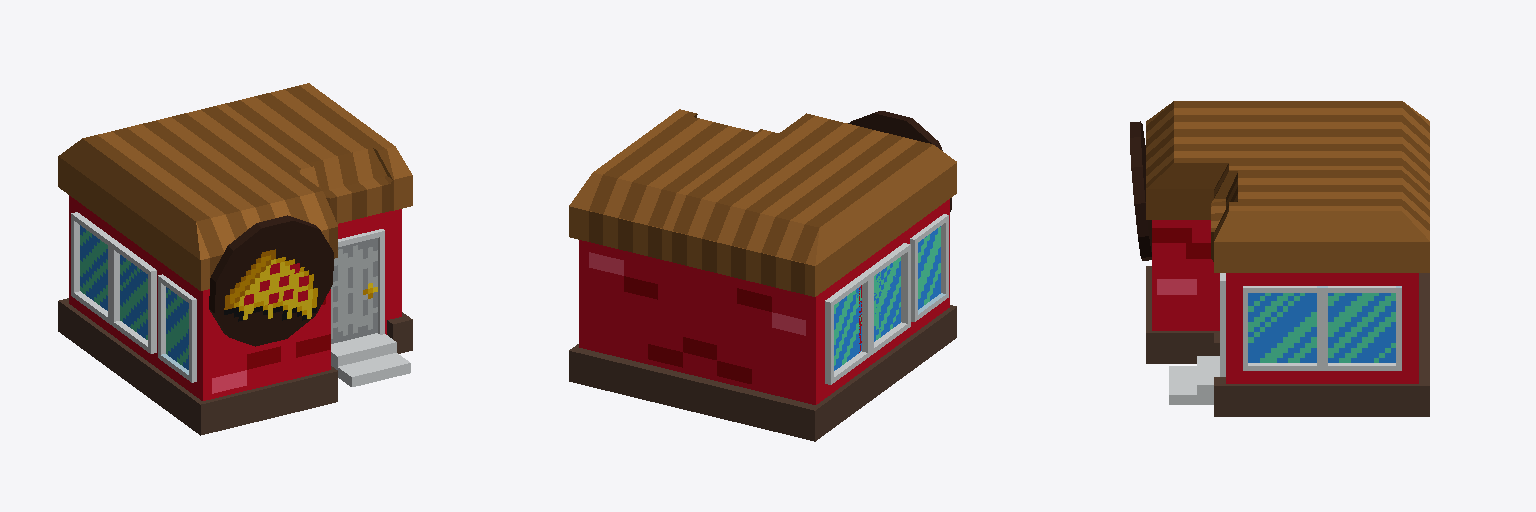
3 views of the same model, side by side, from view 1: azimuth 30°, elevation 25°; view 2: azimuth 150°, elevation 25°; view 3: azimuth 270°, elevation 25° (orthographic).
Visible parts, largest first — view 1: cube, pizza, window_2, window_3, door; view 2: cube, window_2, window_3, pizza; view 3: cube, window_1, pizza, door.
Part boxes in pixels (bbox=[...]): cube: bbox=[58, 83, 412, 435]; pizza: bbox=[209, 215, 333, 346]; window_2: bbox=[71, 212, 156, 353]; window_3: bbox=[158, 274, 196, 382]; door: bbox=[338, 229, 384, 334]; cube: bbox=[569, 109, 956, 441]; window_2: bbox=[825, 243, 910, 384]; window_3: bbox=[910, 214, 948, 321]; pizza: bbox=[848, 111, 951, 211]; cube: bbox=[1146, 101, 1429, 416]; window_1: bbox=[1243, 286, 1401, 370]; pizza: bbox=[1130, 121, 1151, 260]; door: bbox=[1220, 273, 1225, 376].
Size of the model in its own units: 3.14 by 2.44 by 3.31.
Materials: 1 (1 with a texture image).